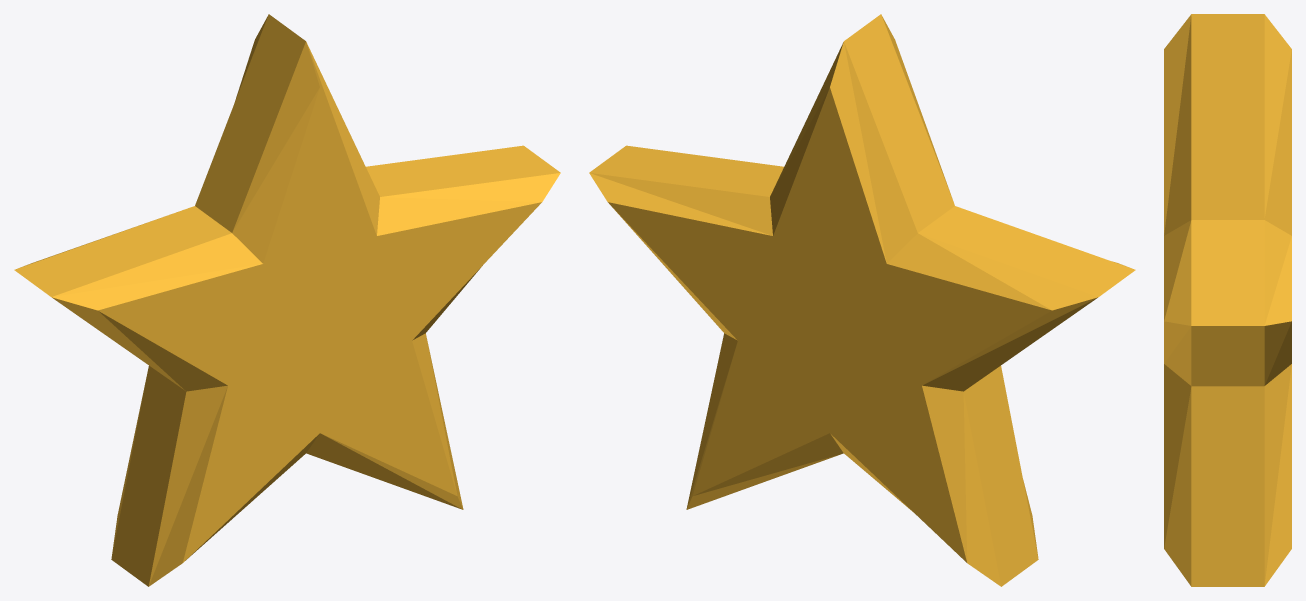
Rendered from star.glb.
3 renders of one model, left to right at view 1: azimuth 30°, elevation 25°; view 2: azimuth 150°, elevation 25°; view 3: azimuth 270°, elevation 25°, orthographic.
Parts seen in each view (by area): view 1: star; view 2: star; view 3: star.
Part boxes in pixels (<box>): star: <box>14,14,560,586</box>; star: <box>589,14,1135,586</box>; star: <box>1164,14,1291,586</box>.
Bounding box in the file's own units: 0.1265 × 0.1203 × 0.028.
